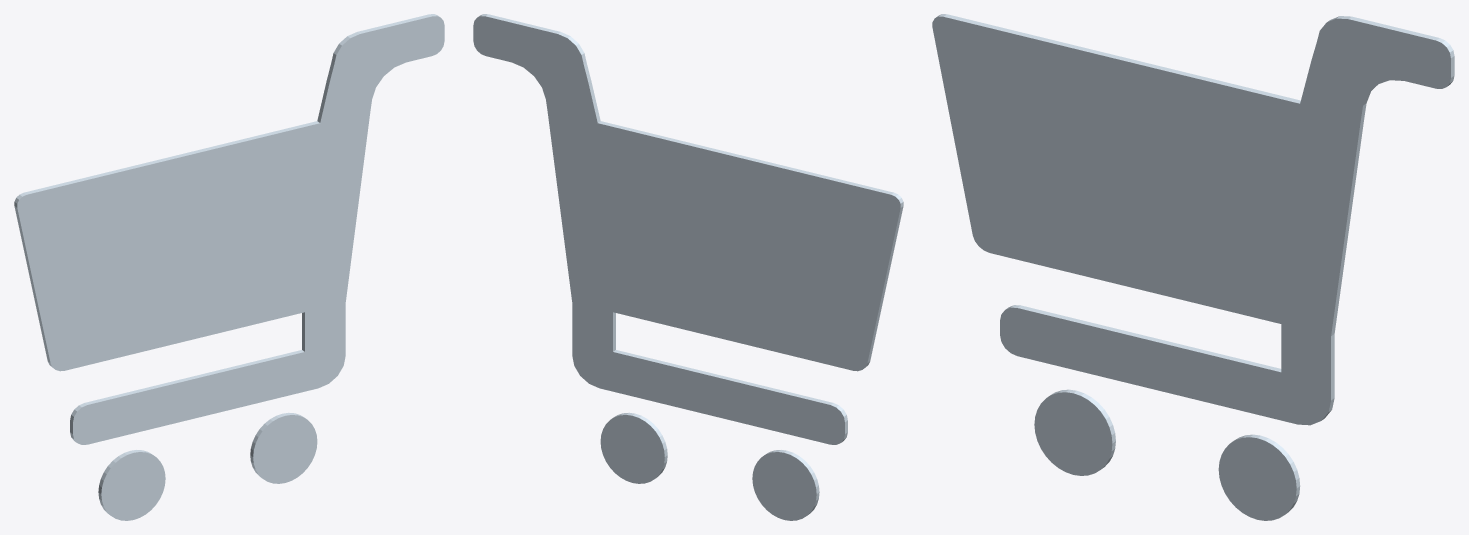
File: Shopping_Cart_3D_Icon_02.fbx
The picture shows the model from 3 angles, left to right: view 1: azimuth 30°, elevation 25°; view 2: azimuth 150°, elevation 25°; view 3: azimuth 330°, elevation 25°; orthographic projection. The views are drawn at different scales.
Visible parts, largest first — view 1: Shopping_Cart_3D_Icon_02; view 2: Shopping_Cart_3D_Icon_02; view 3: Shopping_Cart_3D_Icon_02.
Boxes of the visible parts, x1,y1,x2,y2 form: Shopping_Cart_3D_Icon_02: (14,14,444,520); Shopping_Cart_3D_Icon_02: (473,14,903,520); Shopping_Cart_3D_Icon_02: (932,14,1454,520).
Size of the model in its own units: 169 by 163 by 2.
